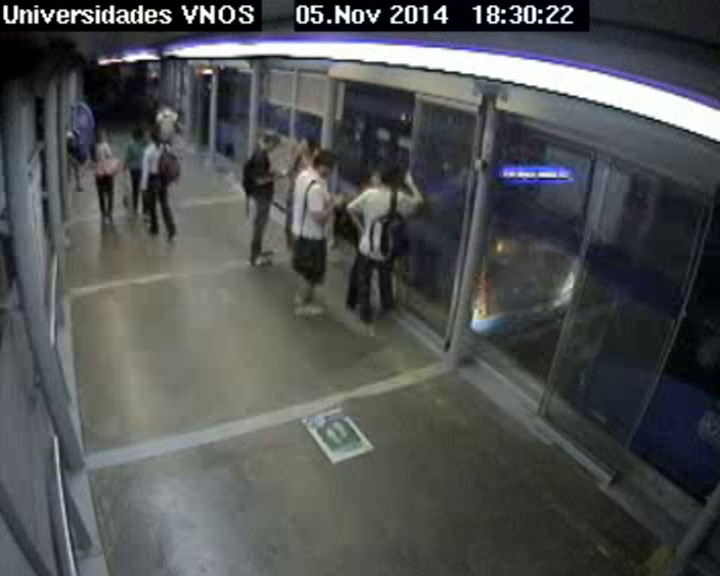person: (312, 152, 338, 178), (379, 160, 402, 187), (260, 130, 283, 154), (298, 134, 317, 154), (368, 169, 384, 186), (147, 127, 163, 143), (94, 128, 108, 143), (131, 127, 145, 142), (159, 97, 172, 110), (69, 122, 77, 130)
